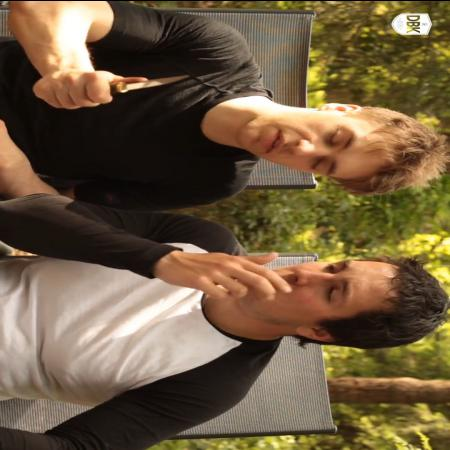long weapon: (52, 64, 200, 116)
